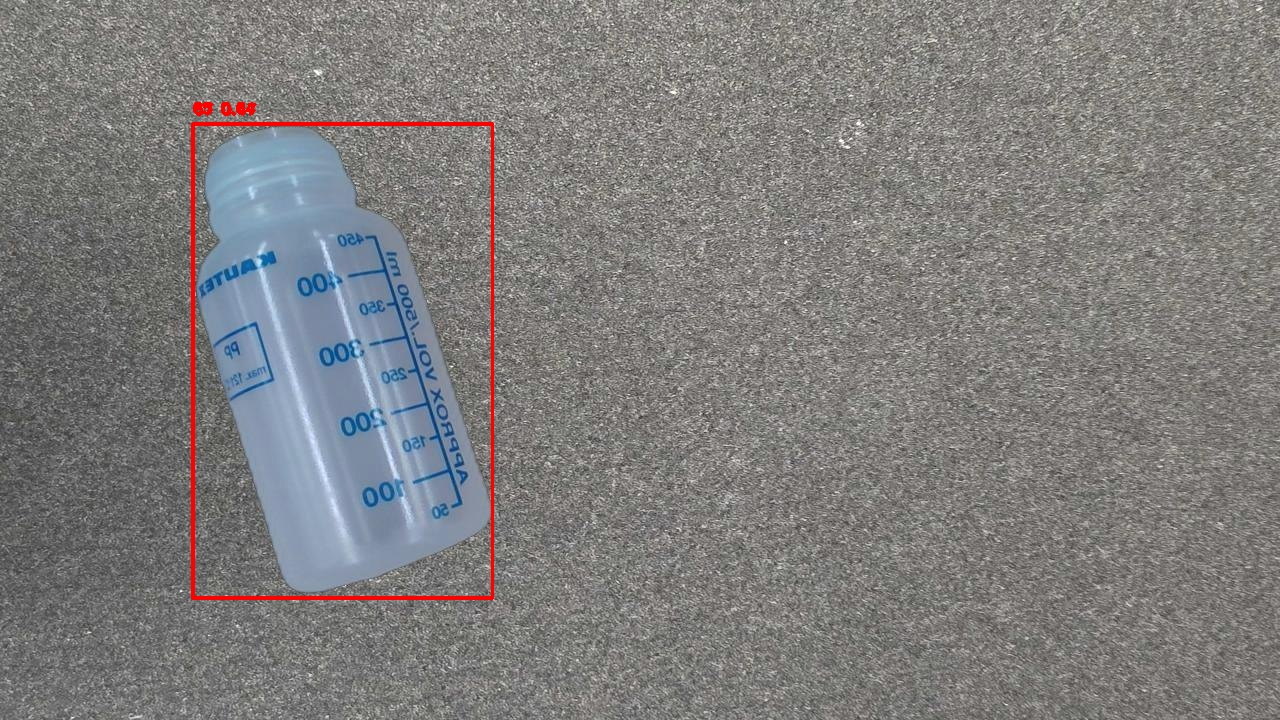cup: (192, 123, 492, 598), (193, 124, 492, 597)
